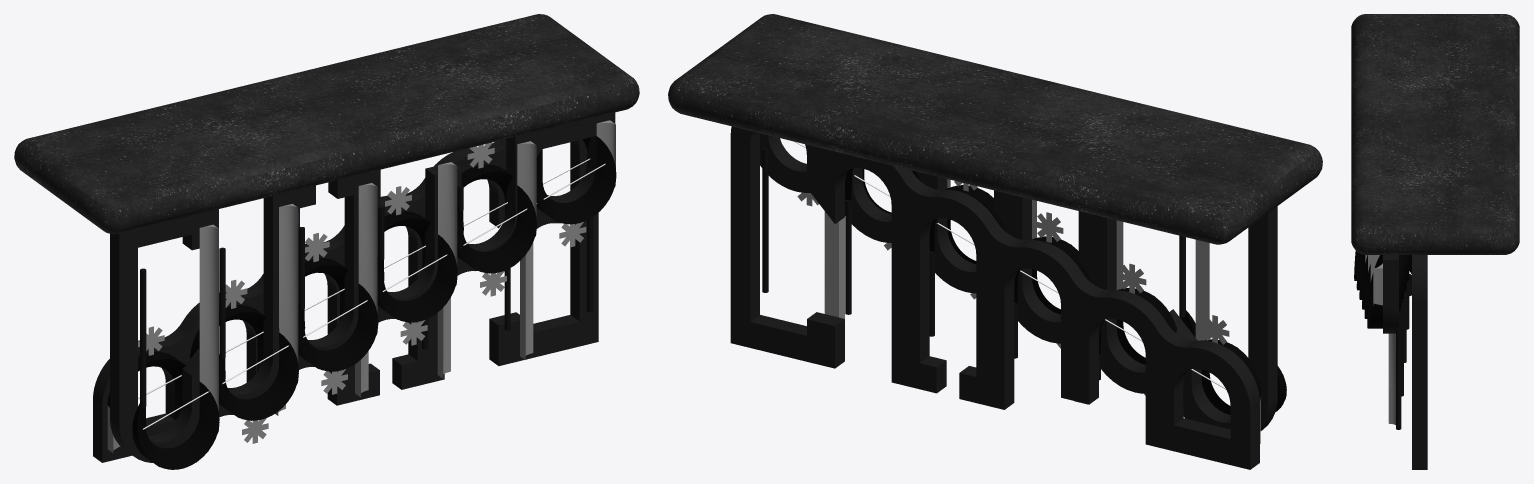
The model's file is 2070s-dj-table-BLCK-v70.glb.
3 renders of one model, left to right at view 1: azimuth 30°, elevation 25°; view 2: azimuth 150°, elevation 25°; view 3: azimuth 270°, elevation 25°, orthographic. The views are drawn at different scales.
Visible parts, largest first — view 1: Box; view 2: Box; view 3: Box.
Part boxes in pixels (box(x1,y1,x2,y2)): Box: box(14, 14, 639, 469); Box: box(668, 14, 1322, 469); Box: box(1351, 14, 1519, 469).
Size of the model in its own units: 1.9 by 0.9668 by 0.6072.
Materials: 1 (1 with a texture image).
